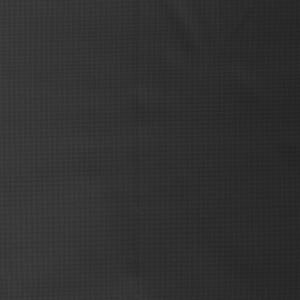Wrinkle: (131, 1, 300, 171)
